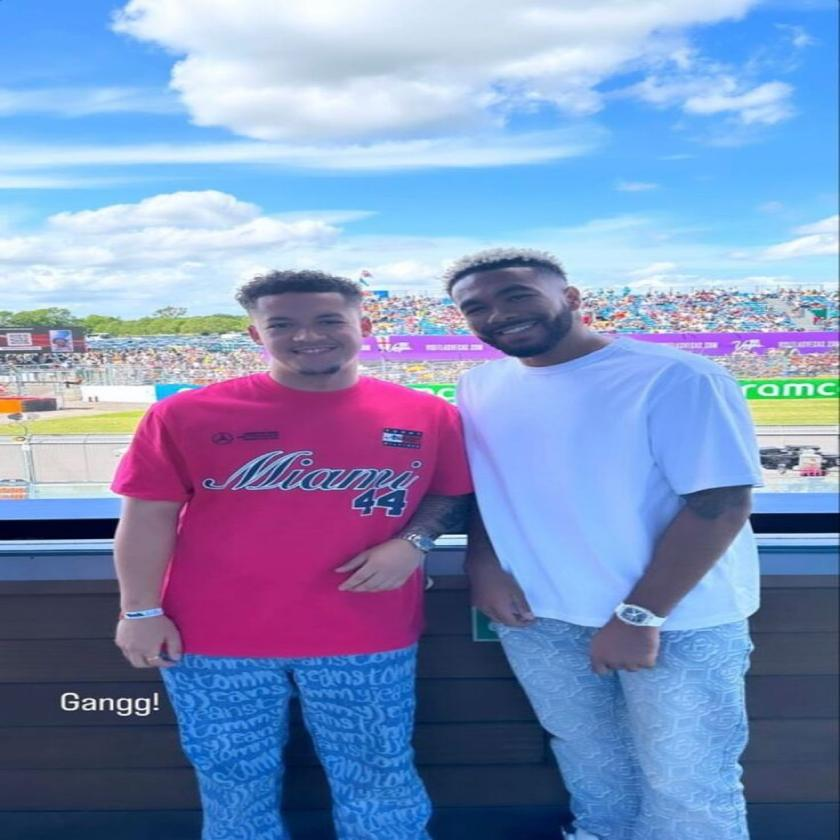Sin_casco: (231, 267, 388, 394), (441, 246, 591, 374)
